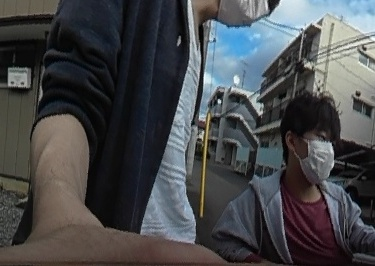person: (209, 92, 375, 266)
